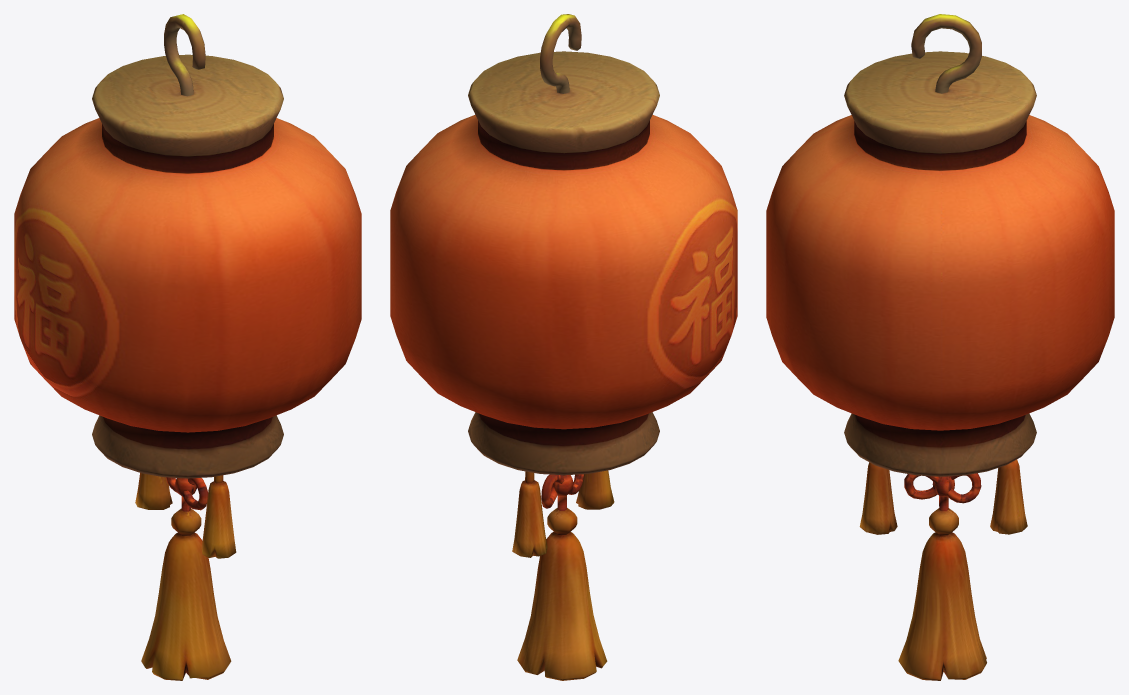
The model's file is SM_Lantern_A.glb.
3 views of the same model, side by side, from view 1: azimuth 30°, elevation 25°; view 2: azimuth 150°, elevation 25°; view 3: azimuth 270°, elevation 25° (orthographic).
Visible parts, largest first — view 1: SM_Lantern_A_LOD0; view 2: SM_Lantern_A_LOD0; view 3: SM_Lantern_A_LOD0.
Boxes of the visible parts, left/top/right/bottom form: SM_Lantern_A_LOD0: left=14, top=14, right=361, bottom=680; SM_Lantern_A_LOD0: left=390, top=14, right=737, bottom=680; SM_Lantern_A_LOD0: left=766, top=14, right=1114, bottom=680.
Size of the model in its own units: 0.3347 by 0.6878 by 0.3347.
1 material, 1 textured.
